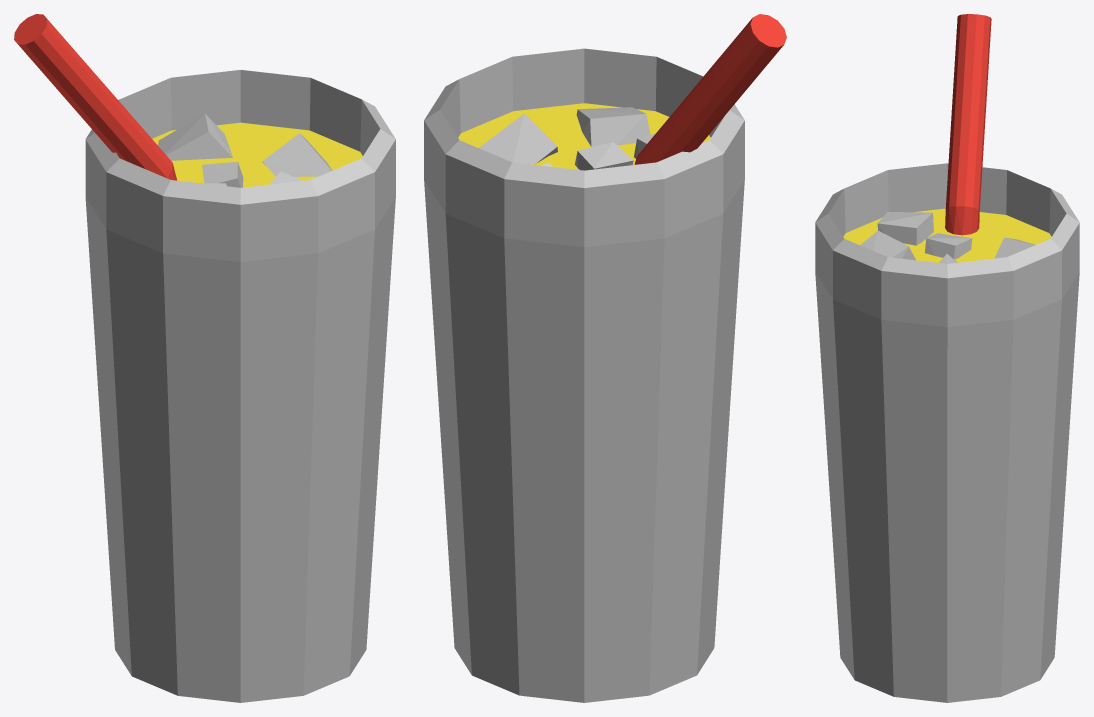
File: Lemonade.fbx
3 renders of one model, left to right at view 1: azimuth 30°, elevation 25°; view 2: azimuth 150°, elevation 25°; view 3: azimuth 270°, elevation 25°, orthographic. The views are drawn at different scales.
Parts seen in each view (by area): view 1: mesh_267287153, mesh_1845637014, mesh_1707821788, mesh_1047002413, mesh_1992233717, mesh_1681323602; view 2: mesh_267287153, mesh_1845637014, mesh_1707821788, mesh_1826181495, mesh_1992233717, mesh_1681323602; view 3: mesh_267287153, mesh_1845637014, mesh_1707821788, mesh_1394320938, mesh_1681323602, mesh_1826181495, mesh_1047002413.
Part boxes in pixels (box(x1,y1,x2,y2)): mesh_267287153: box(85, 70, 395, 702); mesh_1845637014: box(14, 14, 177, 180); mesh_1707821788: box(152, 122, 362, 187); mesh_1047002413: box(158, 113, 232, 160); mesh_1992233717: box(262, 133, 332, 176); mesh_1681323602: box(202, 161, 243, 187); mesh_267287153: box(424, 48, 744, 702); mesh_1845637014: box(634, 14, 786, 164); mesh_1707821788: box(458, 103, 710, 169); mesh_1826181495: box(576, 107, 650, 147); mesh_1992233717: box(479, 113, 557, 164); mesh_1681323602: box(574, 142, 633, 170); mesh_267287153: box(815, 163, 1079, 702); mesh_1845637014: box(945, 14, 991, 235); mesh_1707821788: box(843, 208, 1051, 262); mesh_1394320938: box(877, 212, 933, 245); mesh_1681323602: box(924, 233, 972, 259); mesh_1826181495: box(860, 230, 915, 260); mesh_1047002413: box(994, 237, 1035, 258).
Size of the model in its own units: 68.82 by 128 by 54.
